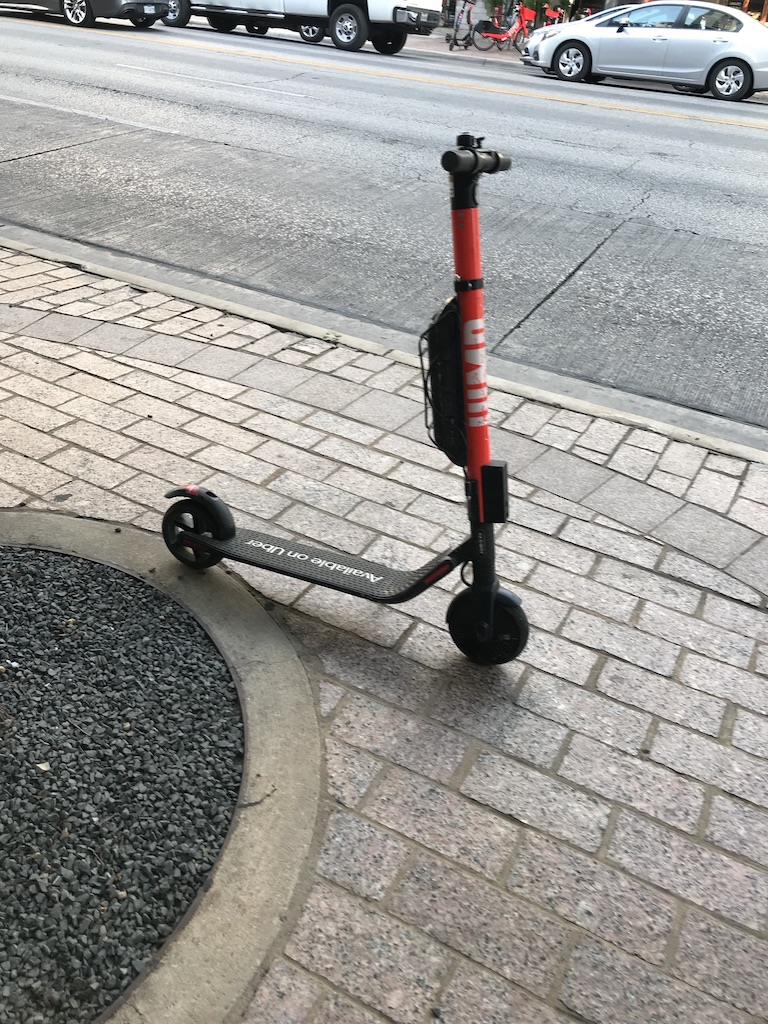scooter: (159, 133, 533, 667)
